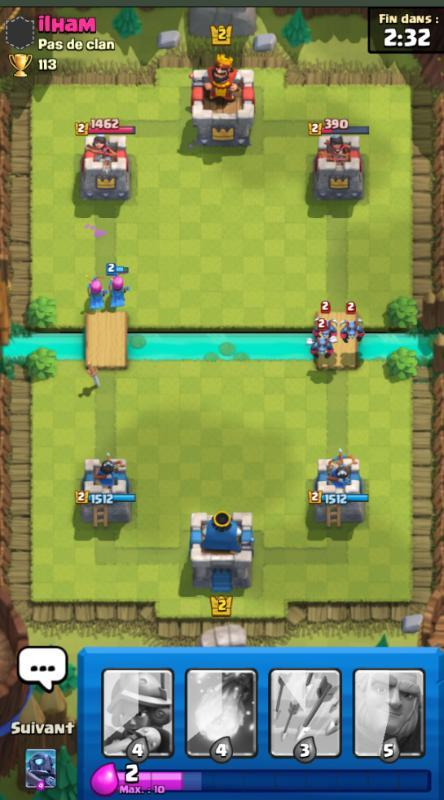enemy_minions: (303, 326, 339, 360), (337, 313, 367, 343), (315, 314, 340, 335)
player_archers: (104, 264, 131, 310), (81, 271, 108, 313)
